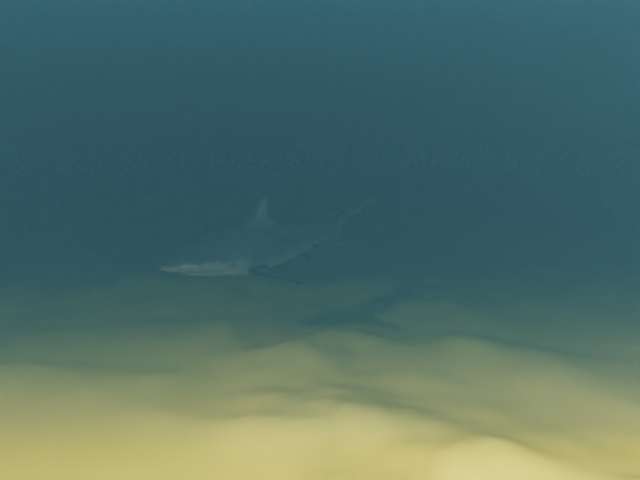Carribean Shark.001: (157, 190, 384, 285)
